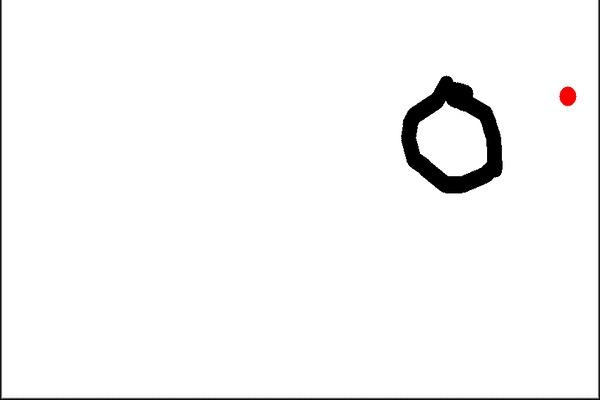O: (389, 70, 515, 202)
